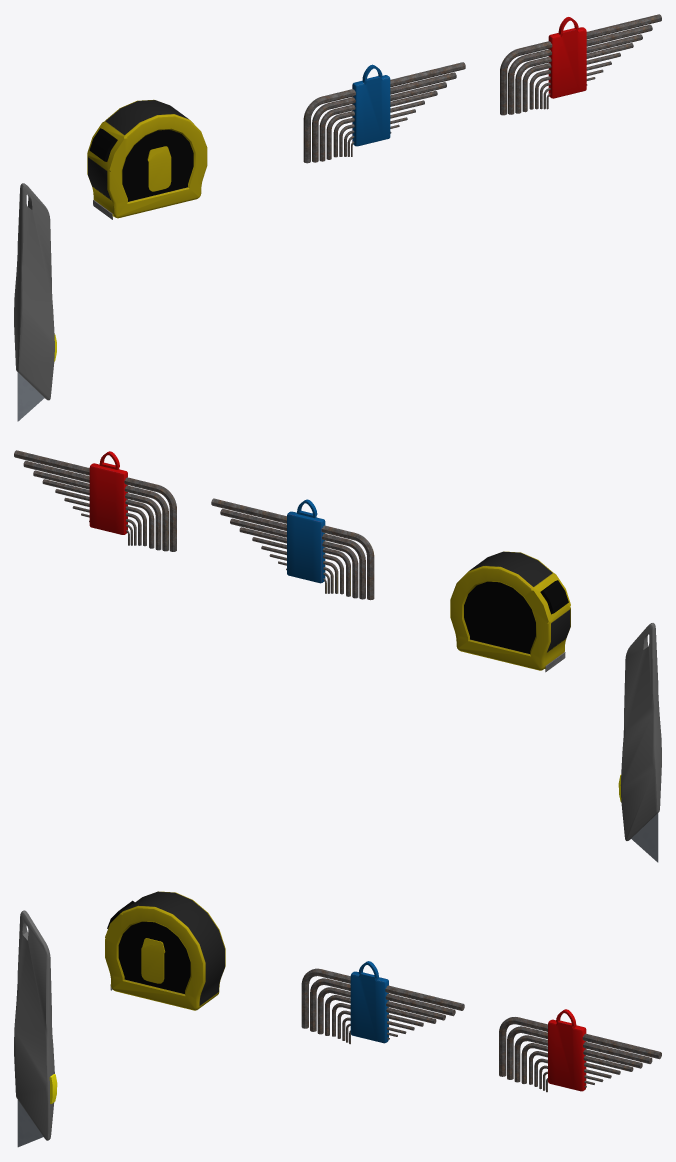
File: tape measure.fbx
3 views of the same model, one above another, from view 1: azimuth 30°, elevation 25°; view 2: azimuth 150°, elevation 25°; view 3: azimuth 330°, elevation 25° (orthographic).
Parts seen in each view (by area): view 1: Cylinder; view 2: Cylinder; view 3: Cylinder.
Boxes of the visible parts, <box> form: Cylinder: <box>14,14,661,421</box>; Cylinder: <box>14,450,661,862</box>; Cylinder: <box>14,891,661,1147</box>.
Size of the model in its own units: 54.68 by 22.29 by 3.52.
2 materials, 2 textured.
